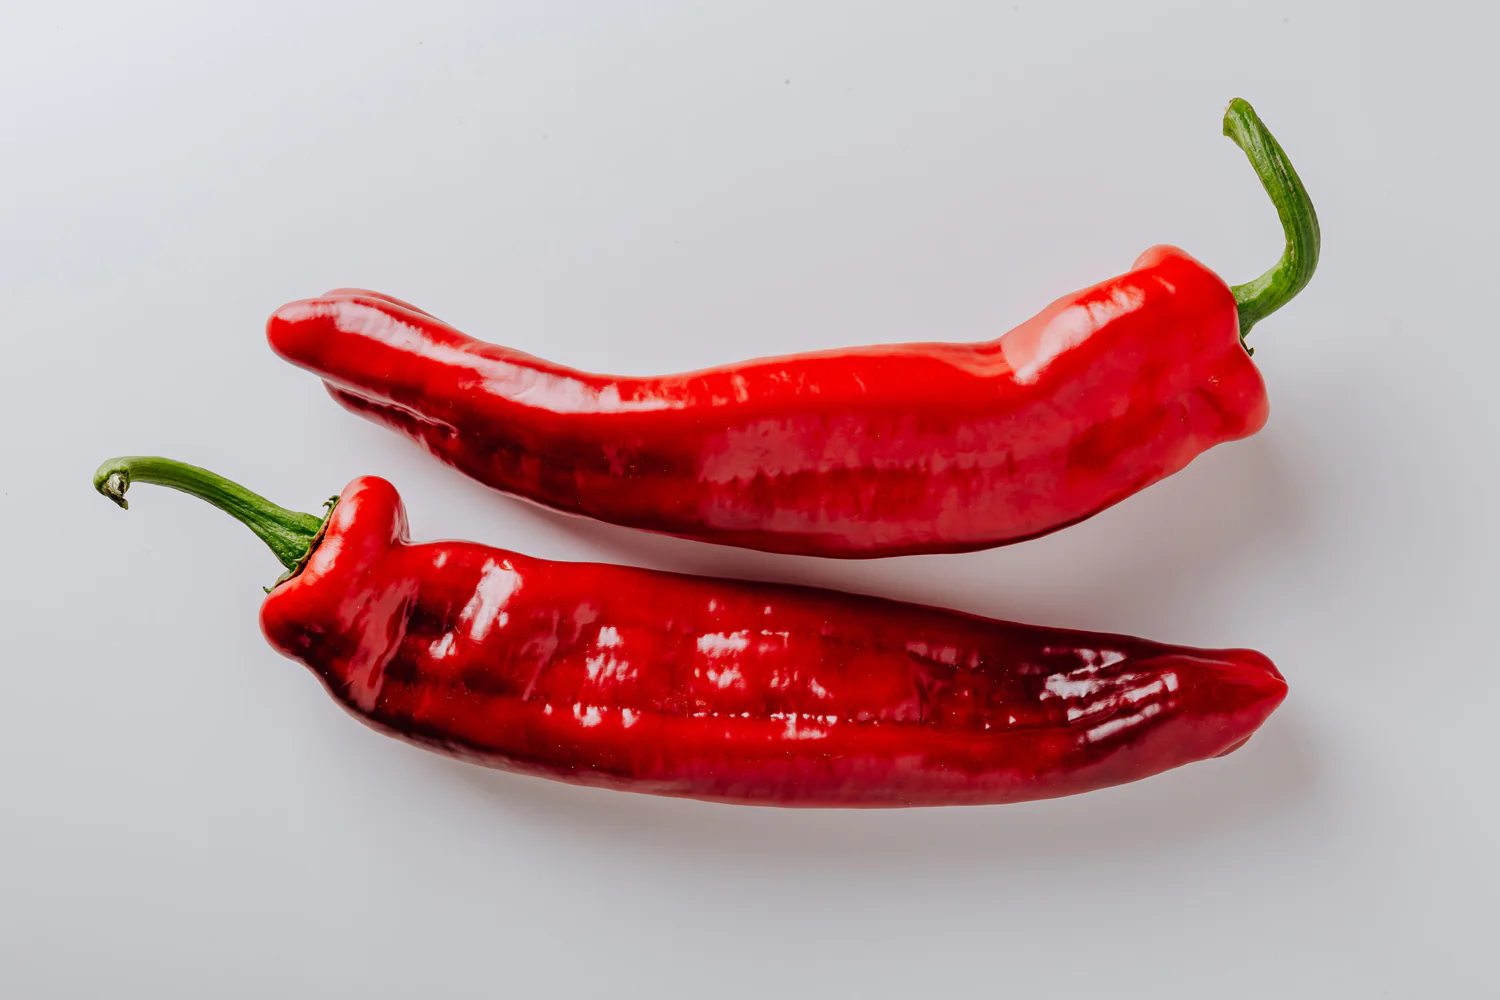Chili: (67, 352, 1342, 890), (209, 99, 1363, 592)
